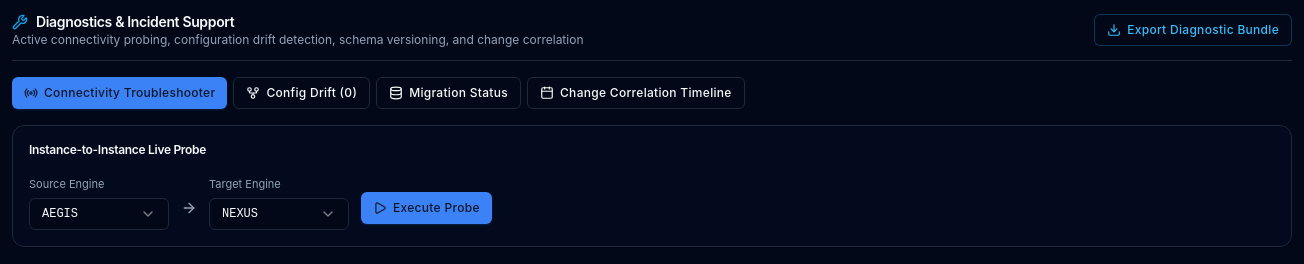
it: Diagnostics UI Components › switches to Migration Status tab and displays engine schema versions
Click the button "Migration Status" at [449, 93], box [376,77,521,109]
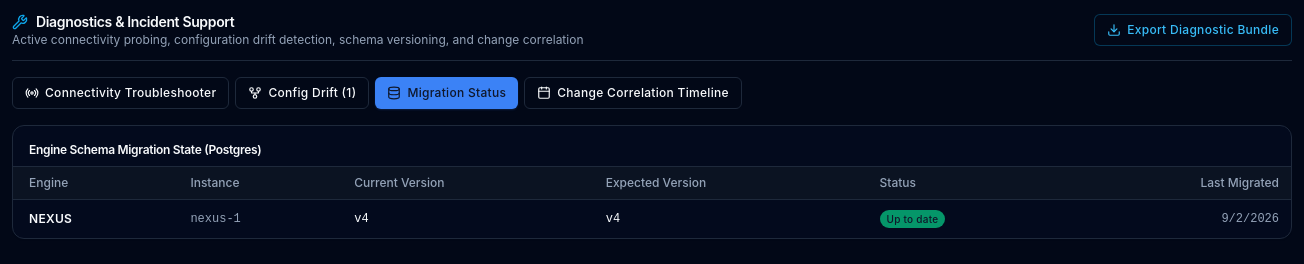
Check: the heading "Engine Schema Migration State (Postgres)" is shown, box [29,142,262,157]
Check: the column heading "Current Version" is shown, box [342,166,594,200]
